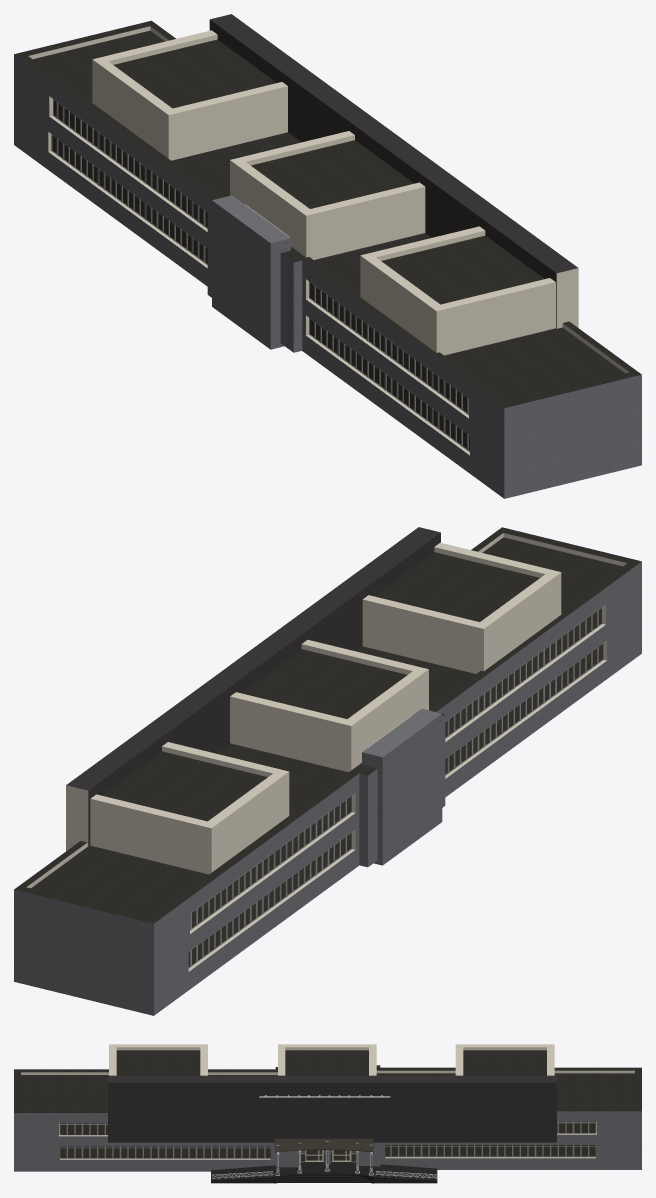
The model's file is corp1.gltf.
3 views of the same model, one above another, from view 1: azimuth 30°, elevation 25°; view 2: azimuth 150°, elevation 25°; view 3: azimuth 270°, elevation 25° (orthographic). The views are drawn at different scales.
Visible parts, largest first — view 1: corp3_791_StaticMeshComponent0, corp_mesh2_795_StaticMeshComponent0, audit2_StaticMesh6_794_StaticMeshComponent0, audit2_StaticMesh4_792_StaticMeshComponent0, audit2_StaticMesh5_793_StaticMeshComponent0, logo2_StaticMesh1_StaticMeshComponent0, Box_Brush10_StaticMesh3_StaticMeshComponent0; view 2: corp_mesh2_795_StaticMeshComponent0, corp3_791_StaticMeshComponent0, audit2_StaticMesh6_794_StaticMeshComponent0, audit2_StaticMesh4_792_StaticMeshComponent0, audit2_StaticMesh5_793_StaticMeshComponent0, logo2_StaticMesh1_StaticMeshComponent0, Box_Brush10_StaticMesh3_StaticMeshComponent0; view 3: logo2_StaticMesh1_StaticMeshComponent0, corp_mesh2_795_StaticMeshComponent0, corp3_791_StaticMeshComponent0, audit2_StaticMesh6_794_StaticMeshComponent0, audit2_StaticMesh4_792_StaticMeshComponent0, audit2_StaticMesh5_793_StaticMeshComponent0, kozir2_320_StaticMeshComponent0, RezCril_StaticMesh2_331_StaticMeshComponent0, Linear_Stair_Brush_StaticMesh2_330_StaticMeshComponent0, Box_Brush14_StaticMesh2_333_StaticMeshComponent0, Enterance2_796_StaticMeshComponent0, Box_Brush16_StaticMesh2_328_StaticMeshComponent0 (+5 smaller).
Boxes of the visible parts, left/top/right/bottom form: corp3_791_StaticMeshComponent0: left=280, top=233, right=641, bottom=498; corp_mesh2_795_StaticMeshComponent0: left=14, top=20, right=301, bottom=297; audit2_StaticMesh6_794_StaticMeshComponent0: left=92, top=30, right=287, bottom=160; audit2_StaticMesh4_792_StaticMeshComponent0: left=360, top=226, right=555, bottom=355; audit2_StaticMesh5_793_StaticMeshComponent0: left=230, top=131, right=425, bottom=259; logo2_StaticMesh1_StaticMeshComponent0: left=209, top=14, right=578, bottom=328; Box_Brush10_StaticMesh3_StaticMeshComponent0: left=212, top=195, right=290, bottom=349; corp_mesh2_795_StaticMeshComponent0: left=14, top=743, right=377, bottom=1015; corp3_791_StaticMeshComponent0: left=356, top=527, right=641, bottom=807; audit2_StaticMesh6_794_StaticMeshComponent0: left=90, top=742, right=289, bottom=874; audit2_StaticMesh4_792_StaticMeshComponent0: left=362, top=542, right=561, bottom=673; audit2_StaticMesh5_793_StaticMeshComponent0: left=230, top=640, right=428, bottom=772; logo2_StaticMesh1_StaticMeshComponent0: left=66, top=527, right=440, bottom=851; Box_Brush10_StaticMesh3_StaticMeshComponent0: left=362, top=708, right=442, bottom=865; logo2_StaticMesh1_StaticMeshComponent0: left=108, top=1075, right=556, bottom=1142; corp_mesh2_795_StaticMeshComponent0: left=356, top=1065, right=641, bottom=1169; corp3_791_StaticMeshComponent0: left=14, top=1067, right=299, bottom=1171; audit2_StaticMesh6_794_StaticMeshComponent0: left=455, top=1044, right=554, bottom=1075; audit2_StaticMesh4_792_StaticMeshComponent0: left=109, top=1044, right=207, bottom=1075; audit2_StaticMesh5_793_StaticMeshComponent0: left=278, top=1044, right=376, bottom=1075; kozir2_320_StaticMeshComponent0: left=274, top=1138, right=373, bottom=1152; RezCril_StaticMesh2_331_StaticMeshComponent0: left=274, top=1161, right=373, bottom=1183; Linear_Stair_Brush_StaticMesh2_330_StaticMeshComponent0: left=275, top=1173, right=372, bottom=1182; Box_Brush14_StaticMesh2_333_StaticMeshComponent0: left=373, top=1164, right=437, bottom=1178; Enterance2_796_StaticMeshComponent0: left=300, top=1150, right=355, bottom=1162; Box_Brush16_StaticMesh2_328_StaticMeshComponent0: left=211, top=1165, right=274, bottom=1178.
Bounding box in the file's own units: 20.51 × 13.66 × 82.62.
13 materials, 9 textured.
